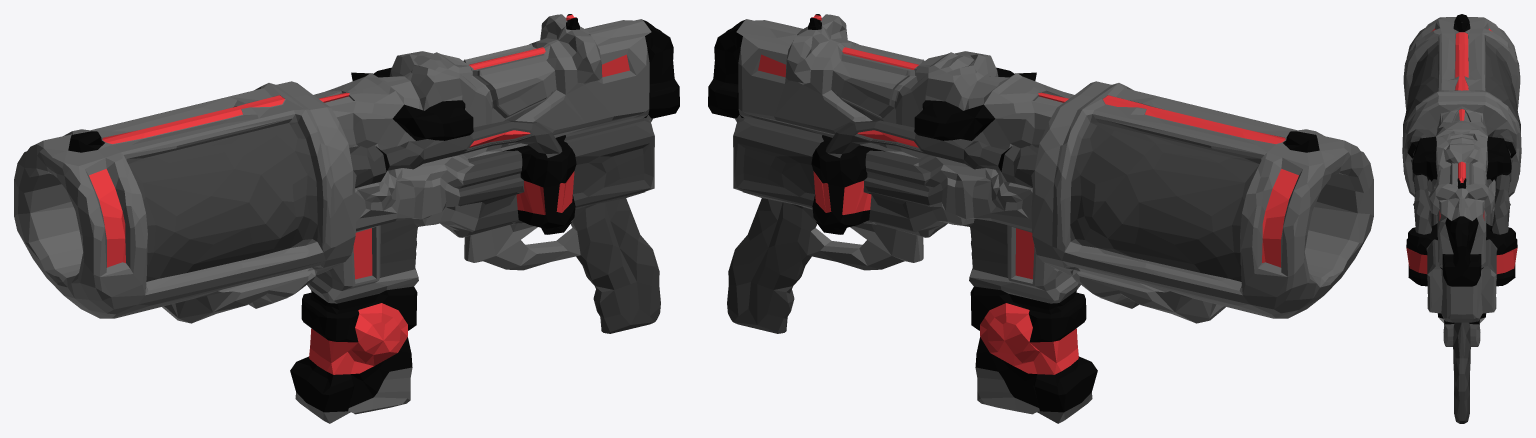
File: Renko With Materials.fbx
The picture shows the model from 3 angles, left to right: view 1: azimuth 30°, elevation 25°; view 2: azimuth 150°, elevation 25°; view 3: azimuth 270°, elevation 25°; orthographic projection. The views are drawn at different scales.
Parts seen in each view (by area): view 1: Renko; view 2: Renko; view 3: Renko.
Boxes of the visible parts, <box> form: Renko: <box>14,14,679,423</box>; Renko: <box>708,14,1373,423</box>; Renko: <box>1402,14,1521,423</box>.
Bounding box in the file's own units: 0.4843 × 1.02 × 1.96.
